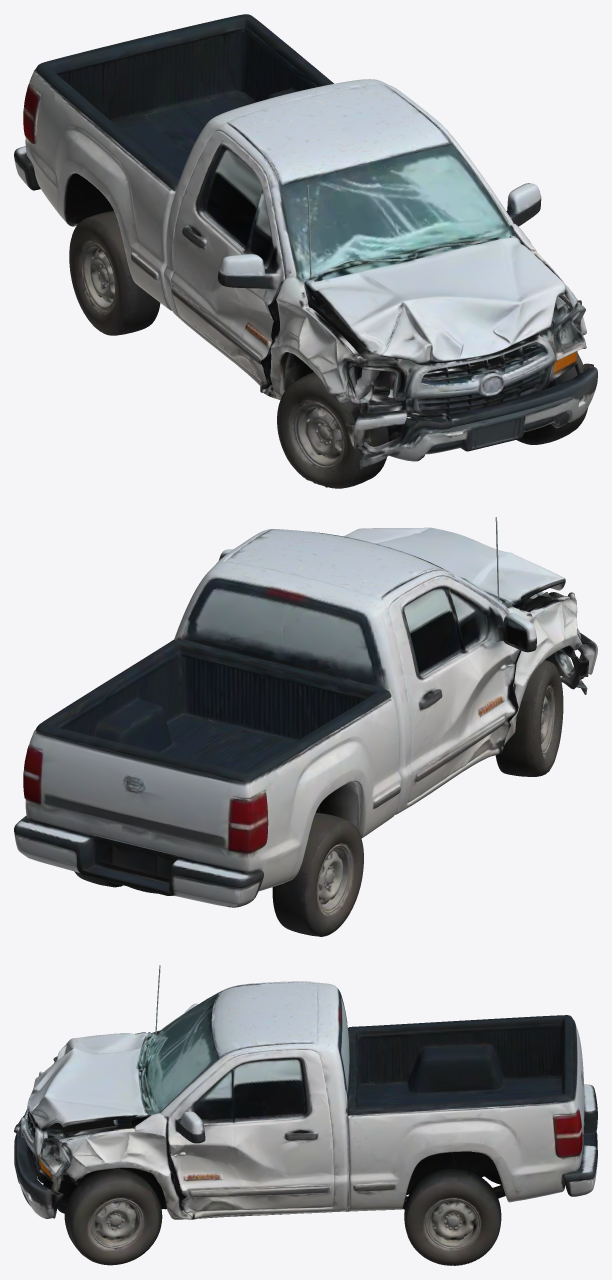
File: crashed_pickup_truck_ae555020_v3.glb
3 views of the same model, one above another, from view 1: azimuth 30°, elevation 25°; view 2: azimuth 150°, elevation 25°; view 3: azimuth 270°, elevation 25° (orthographic). The views are drawn at different scales.
Parts seen in each view (by area): view 1: material; view 2: material; view 3: material.
Boxes of the visible parts, <box> form: material: <box>14,14,597,488</box>; material: <box>14,517,597,936</box>; material: <box>14,965,597,1265</box>.
Size of the model in its own units: 0.5704 by 0.4749 by 1.14.
1 material, 1 textured.
